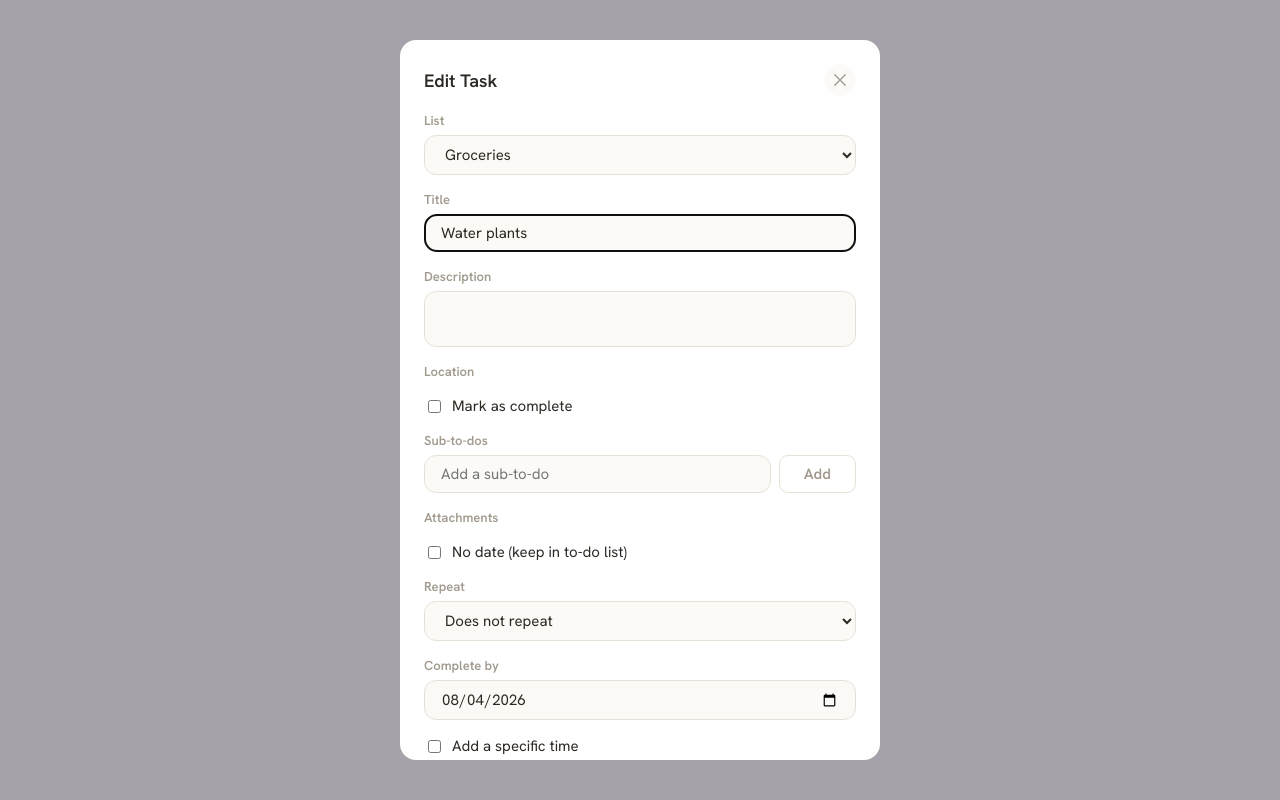
Test: the schedule of a to-do › turns the date into a start date as soon as a repeat is chosen
This screenshot has width=1280, height=800.
Select "Monthly" in the dropdown labelled "Repeat": {"x": 640, "y": 621} [424,601,856,641]
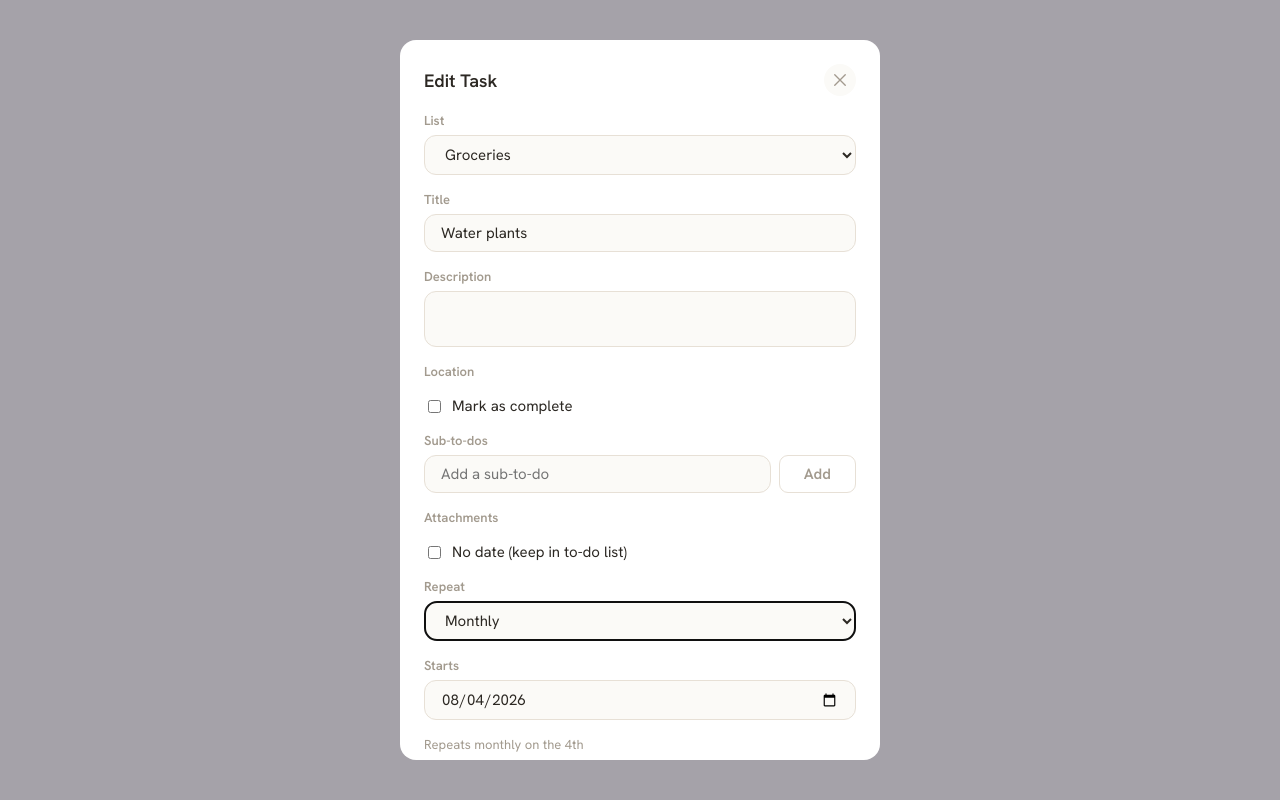
Check: the date field labelled "Starts" is shown, box [424,680,856,720]
Check: the text "Repeats monthly on the 4th" is shown, box [424,736,584,753]
